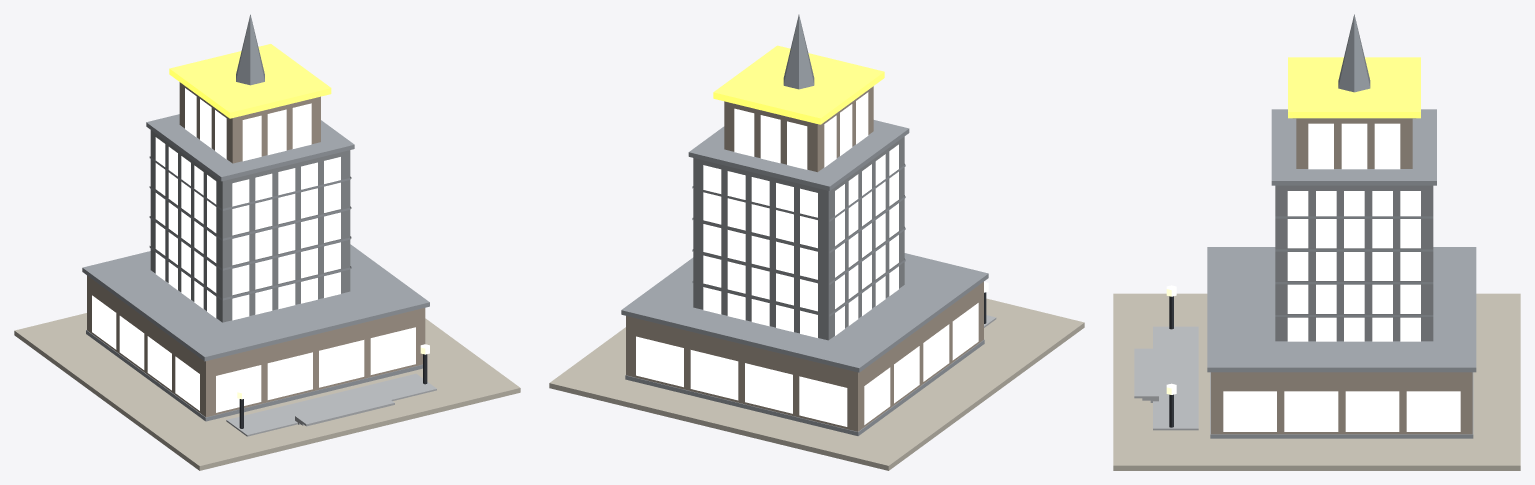
Rendered from landmark_artdeco.glb.
3 renders of one model, left to right at view 1: azimuth 30°, elevation 25°; view 2: azimuth 150°, elevation 25°; view 3: azimuth 270°, elevation 25°, orthographic. The views are drawn at different scales.
Parts seen in each view (by area): view 1: landmark_artdeco; view 2: landmark_artdeco; view 3: landmark_artdeco.
Part boxes in pixels (x1,y1,x2,y2): landmark_artdeco: (14,14,520,470); landmark_artdeco: (549,14,1084,470); landmark_artdeco: (1113,14,1520,470).
Bounding box in the file's own units: 1.96 × 1.97 × 1.96.
